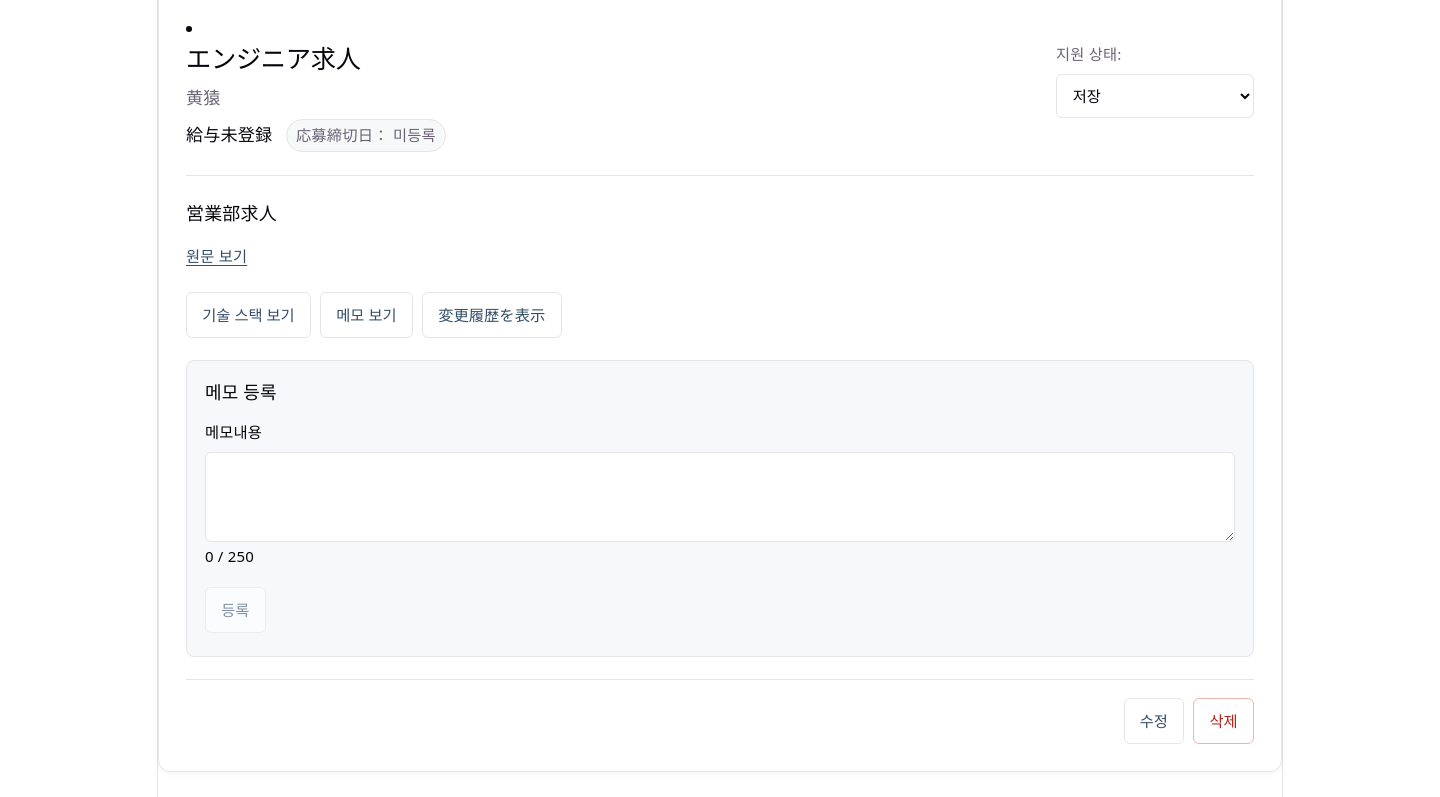
Test: memos › 메모 삭제가 한 번 실패해도 목록과 삭제 버튼을 유지하고 다시 삭제할 수 있다.
 最初のメモ取得
Click the button "메모 보기". click: (366, 315)
box: [320, 292, 413, 338]
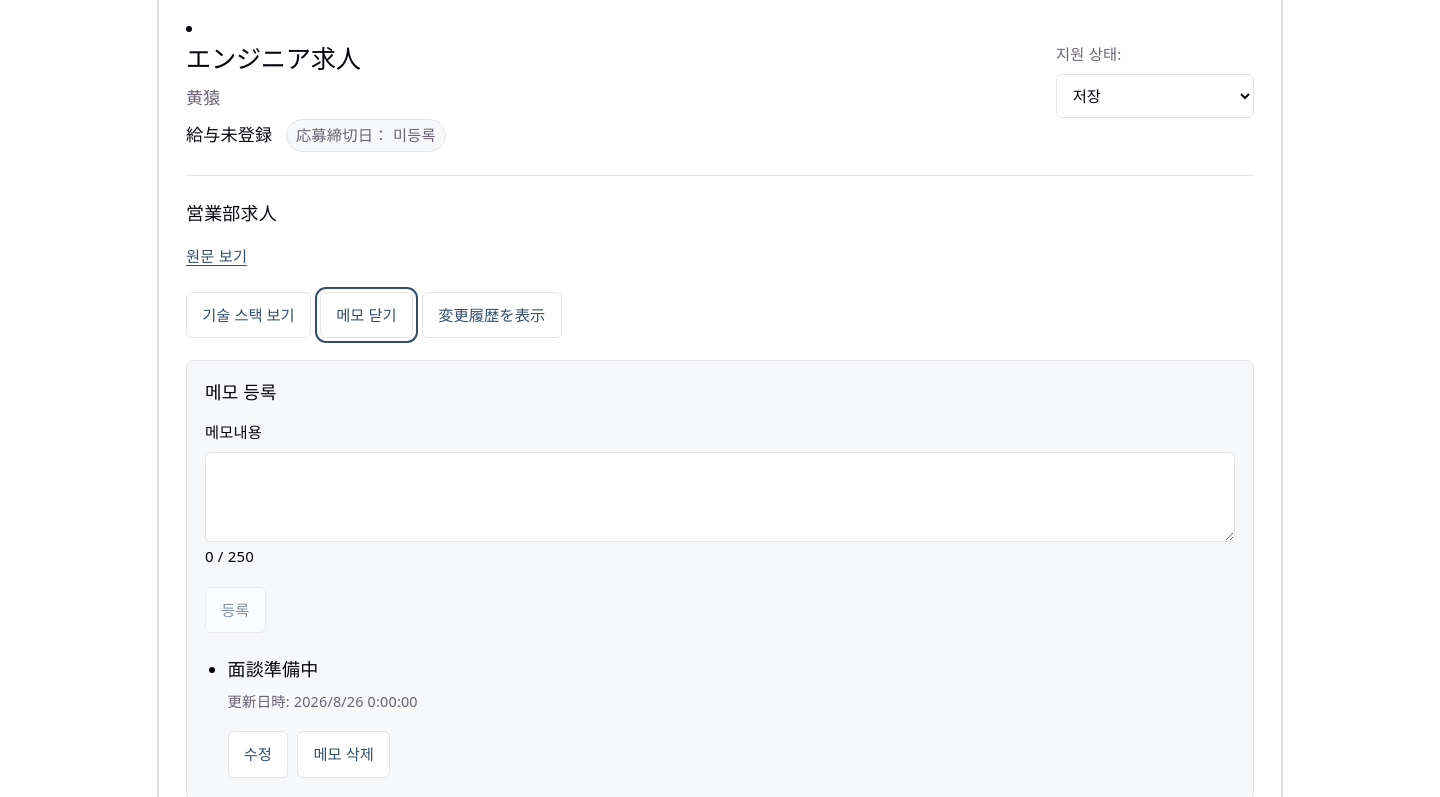
Now the text "面談準備中" is shown, box [228, 657, 318, 681]
Click the button "메모 삭제". click: (344, 754)
box: [297, 731, 390, 778]
(page scrolled)
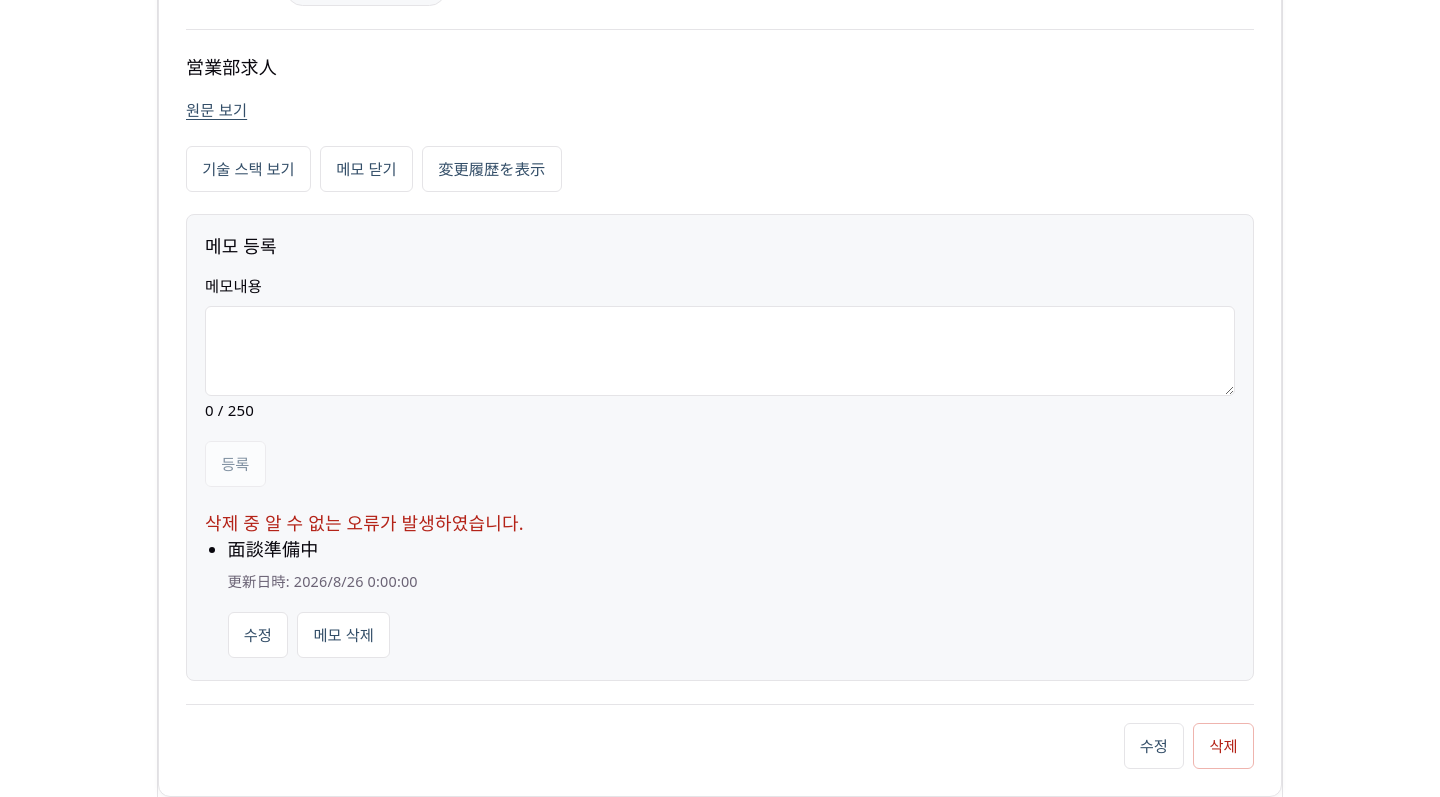
Now the text "面談準備中" is shown, box [228, 537, 318, 561]
Now the button "메모 삭제" is enabled
Now the message reads "삭제 중 알 수 없는 오류가 발생하였습니다.", box [205, 511, 524, 535]
Click the button "메모 삭제". click: (344, 635)
box: [297, 612, 390, 658]
(page scrolled)
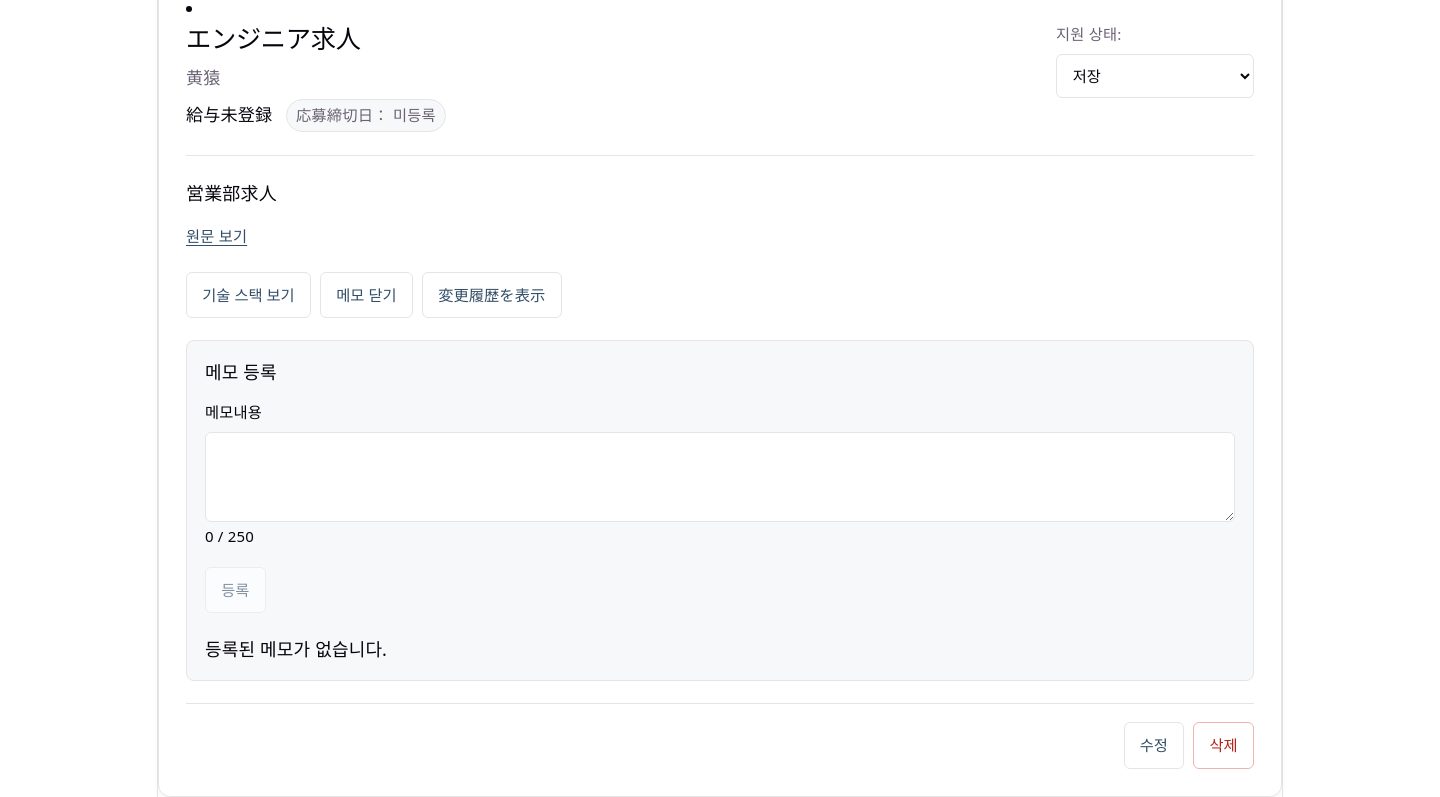
Now the text "등록된 메모가 없습니다." is shown, box [205, 637, 387, 661]
